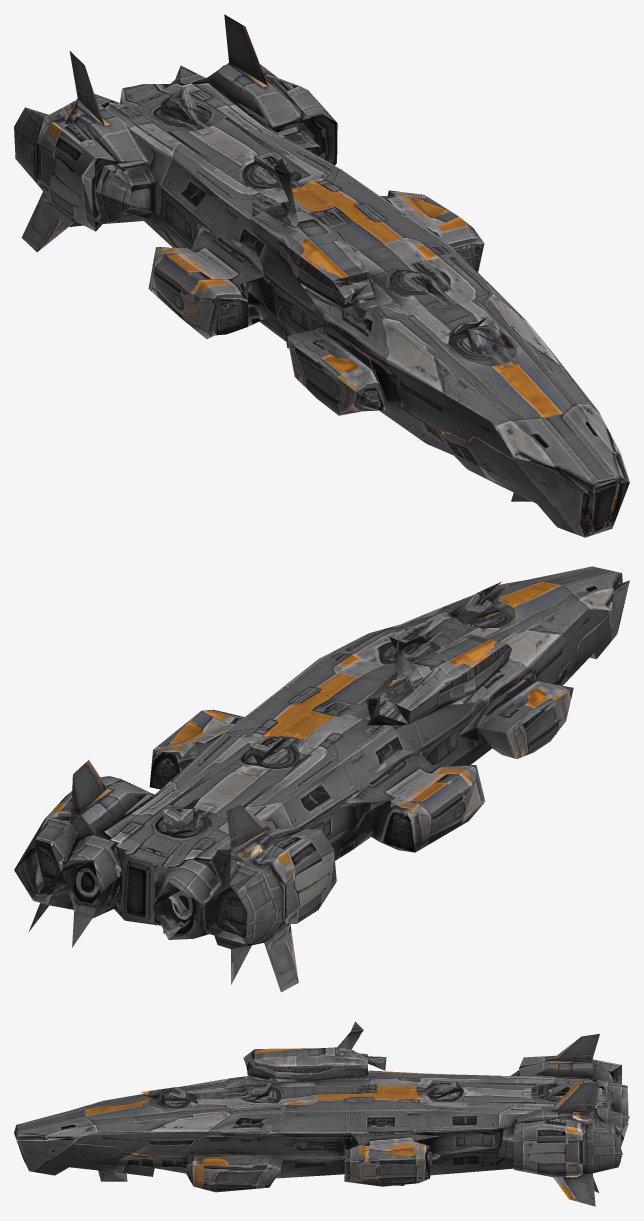
File: frigate-low.glb
3 renders of one model, top to bottom at view 1: azimuth 30°, elevation 25°; view 2: azimuth 150°, elevation 25°; view 3: azimuth 270°, elevation 25°, orthographic. The views are drawn at different scales.
Parts seen in each view (by area): view 1: Low; view 2: Low; view 3: Low.
Boxes of the visible parts, box(x1,y1,x2,y2) form: Low: box(14, 14, 629, 537); Low: box(14, 566, 629, 992); Low: box(14, 1021, 629, 1206).
Size of the model in its own units: 0.6379 by 0.4868 by 1.9.
1 material, 1 textured.
